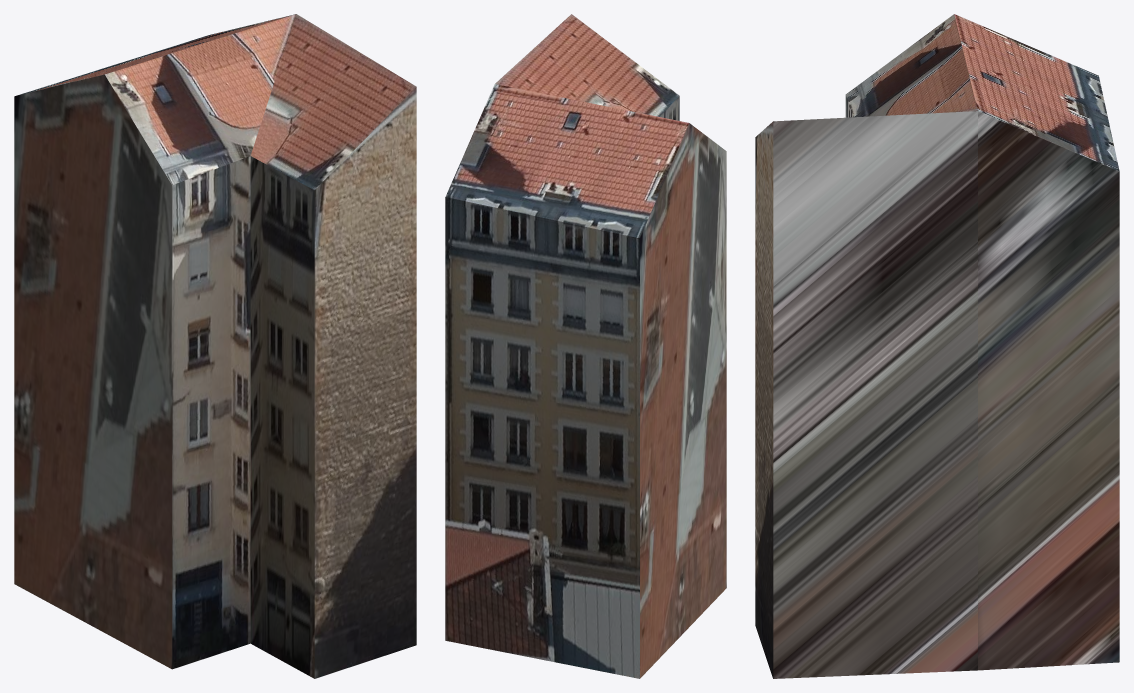
3 views of the same model, side by side, from view 1: azimuth 30°, elevation 25°; view 2: azimuth 150°, elevation 25°; view 3: azimuth 270°, elevation 25° (orthographic). The views are drawn at different scales.
Parts seen in each view (by area): view 1: Z_UP; view 2: Z_UP; view 3: Z_UP.
Boxes of the visible parts, <box> form: Z_UP: <box>14,14,416,678</box>; Z_UP: <box>445,14,726,678</box>; Z_UP: <box>755,14,1119,678</box>.
Size of the model in its own units: 11.56 by 25.92 by 15.31.
2 materials, 1 textured.
